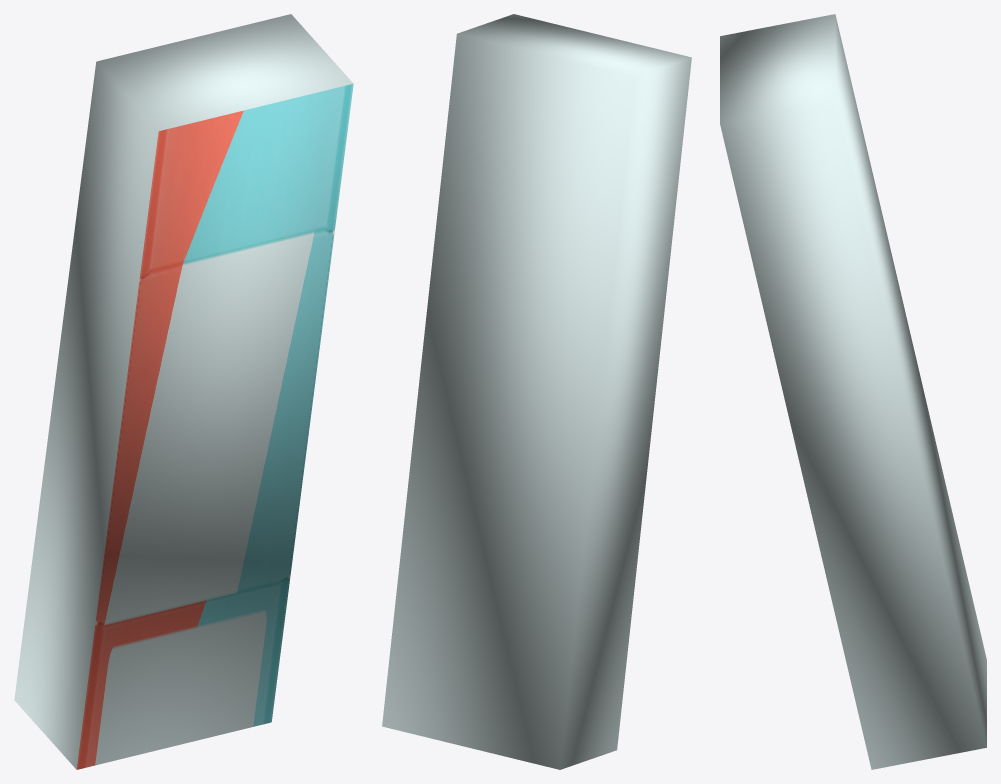
3 renders of one model, left to right at view 1: azimuth 30°, elevation 25°; view 2: azimuth 150°, elevation 25°; view 3: azimuth 270°, elevation 25°, orthographic. The views are drawn at different scales.
Parts seen in each view (by area): view 1: Product_D09_s00.001; view 2: Product_D09_s00.001; view 3: Product_D09_s00.001.
Boxes of the visible parts, x1,y1,x2,y2 form: Product_D09_s00.001: (14,14,353,769); Product_D09_s00.001: (382,14,691,769); Product_D09_s00.001: (720,14,986,769).
Size of the model in its own units: 0.03 by 0.1062 by 0.0385.
1 material, 1 textured.
